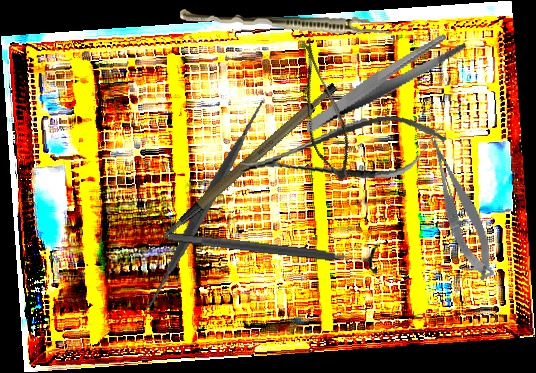Dressing Forceps: (292, 29, 477, 134)
Fixation Ring: (166, 220, 381, 275)
Micro Scissor: (233, 107, 452, 196), (270, 37, 372, 185), (423, 129, 500, 286)
Scalpel Handle: (141, 80, 355, 240)
Spatula Surgical: (100, 97, 313, 311)
Tissue Forceps: (179, 9, 393, 36)
